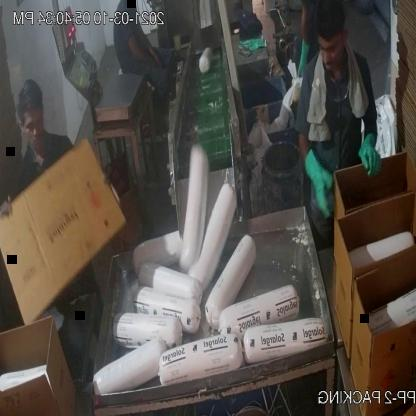glove: (298, 135, 333, 226), (356, 126, 381, 183)
no_glove: (119, 32, 158, 76)
